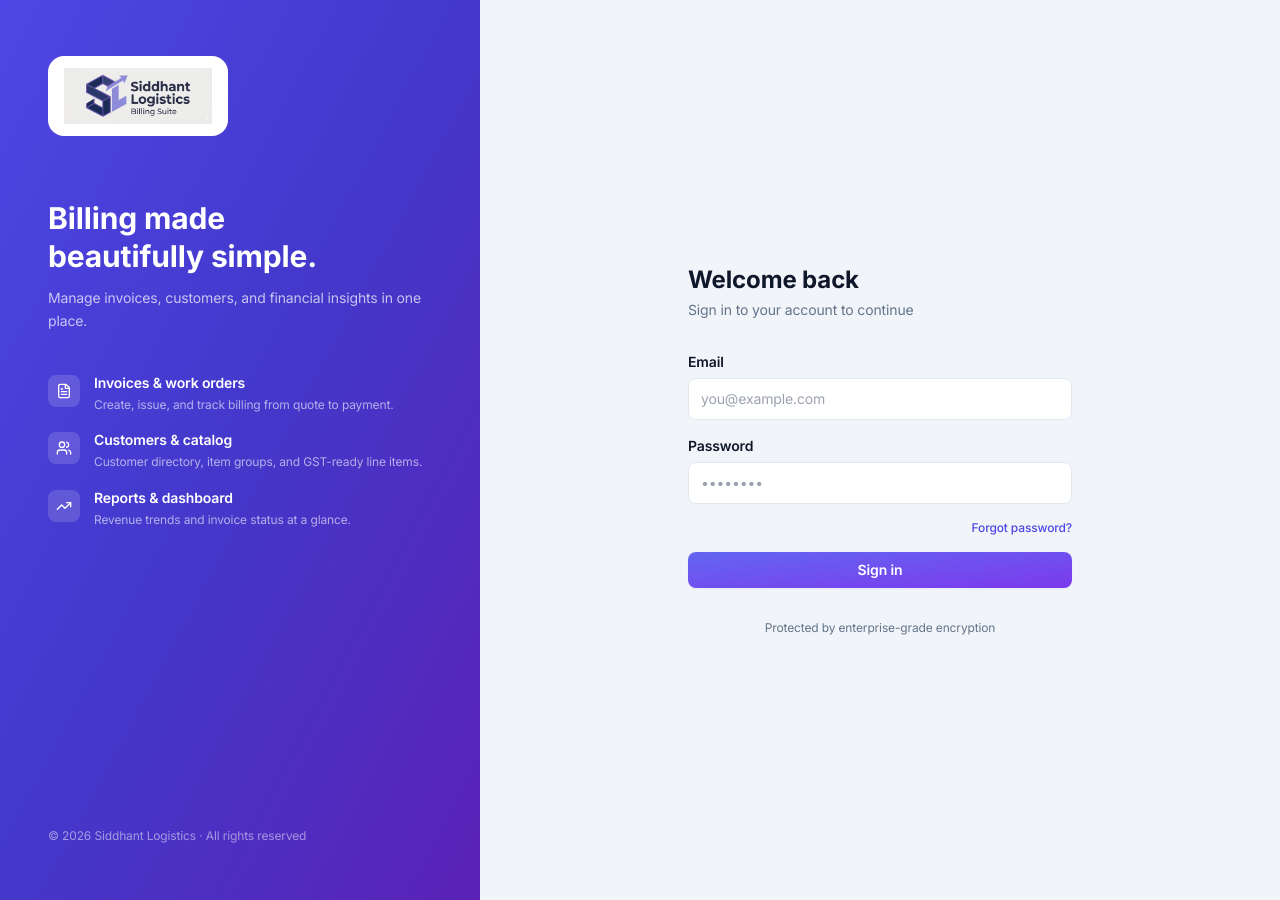
Test case: LoginPage › shows validation error for empty password
Type "test@example.com" into the field labelled "Email" at (880, 399), box [688, 378, 1072, 420]
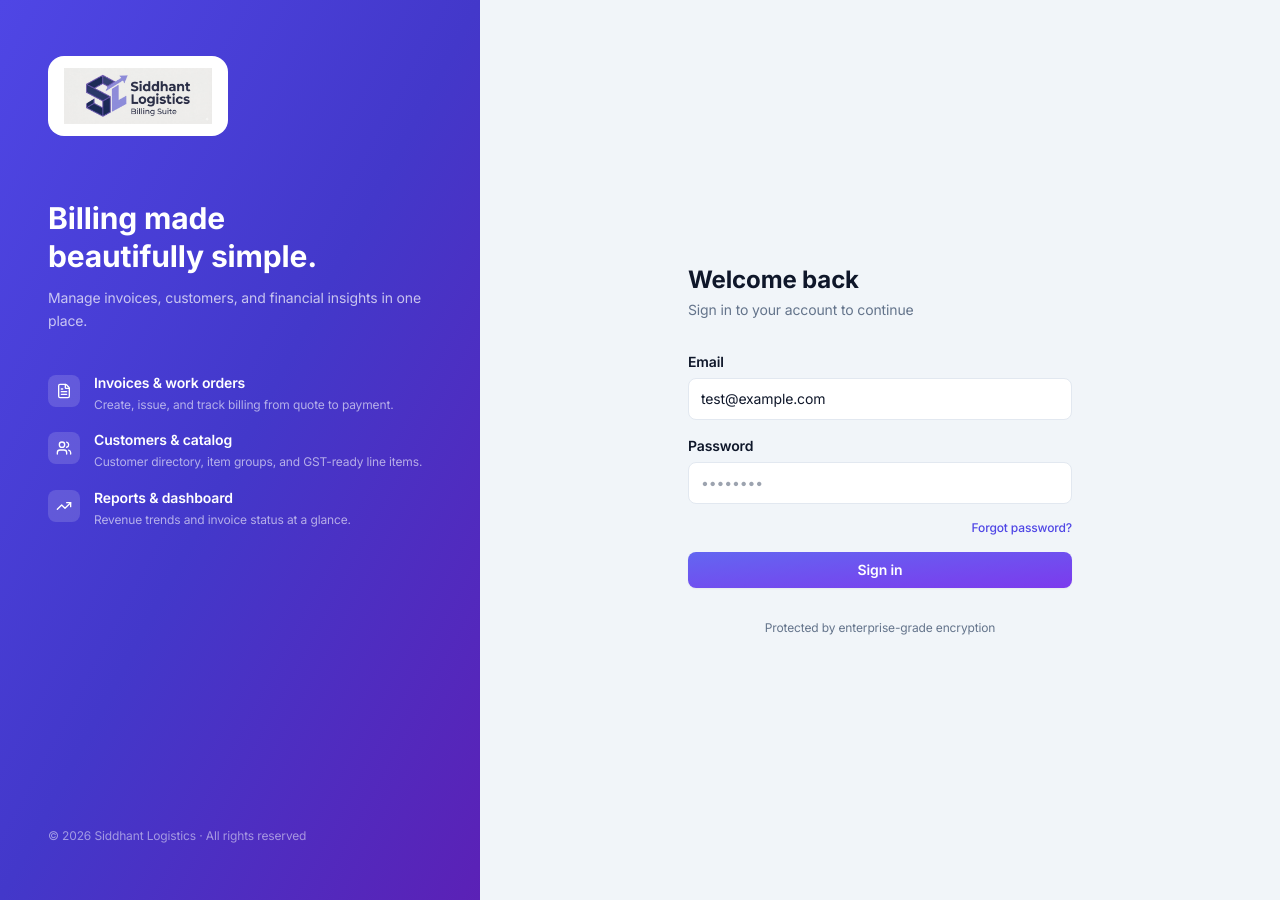
Click the button "Sign in" at (880, 570), box [688, 552, 1072, 588]
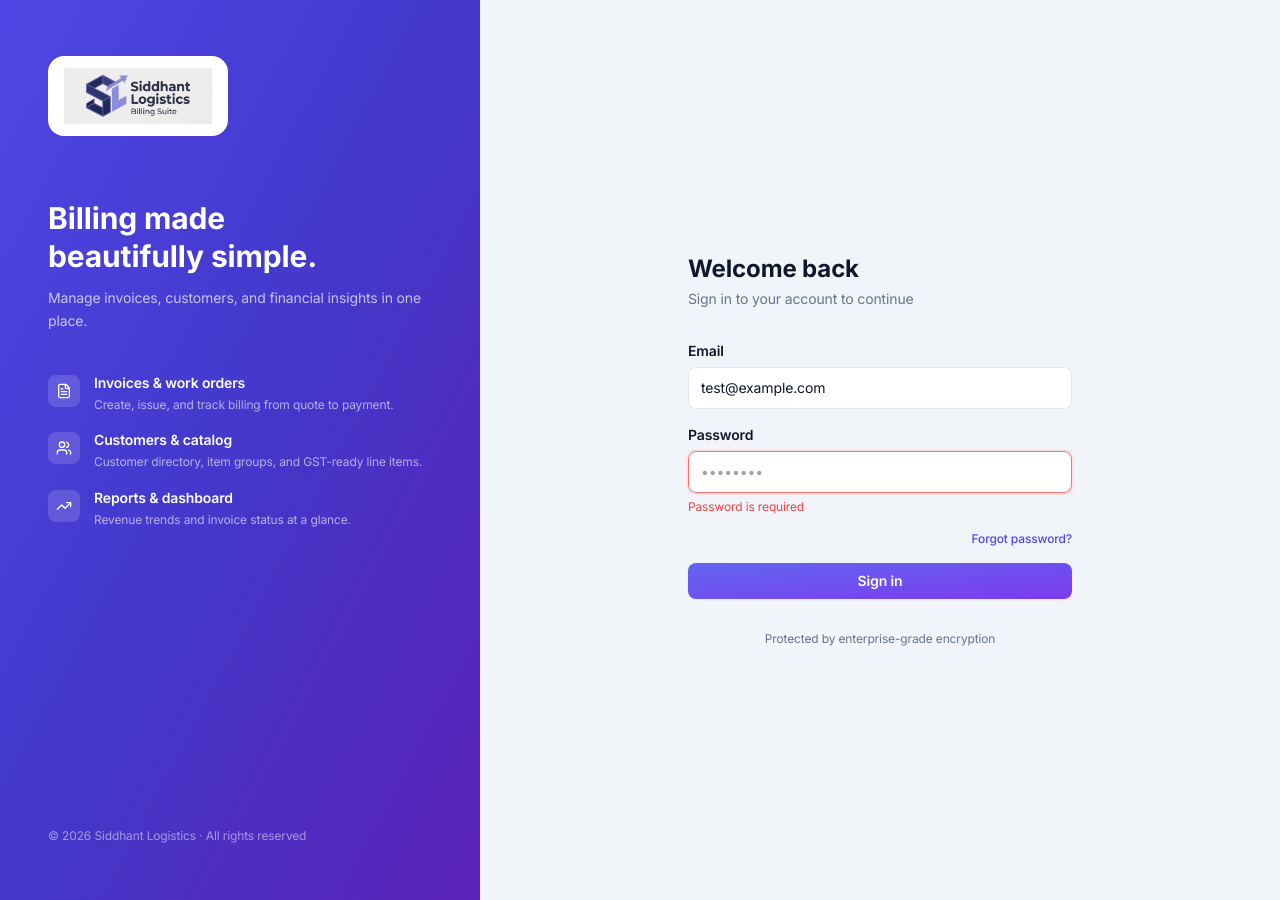
expect the text "Password is required" is shown: met, box [688, 499, 804, 514]
